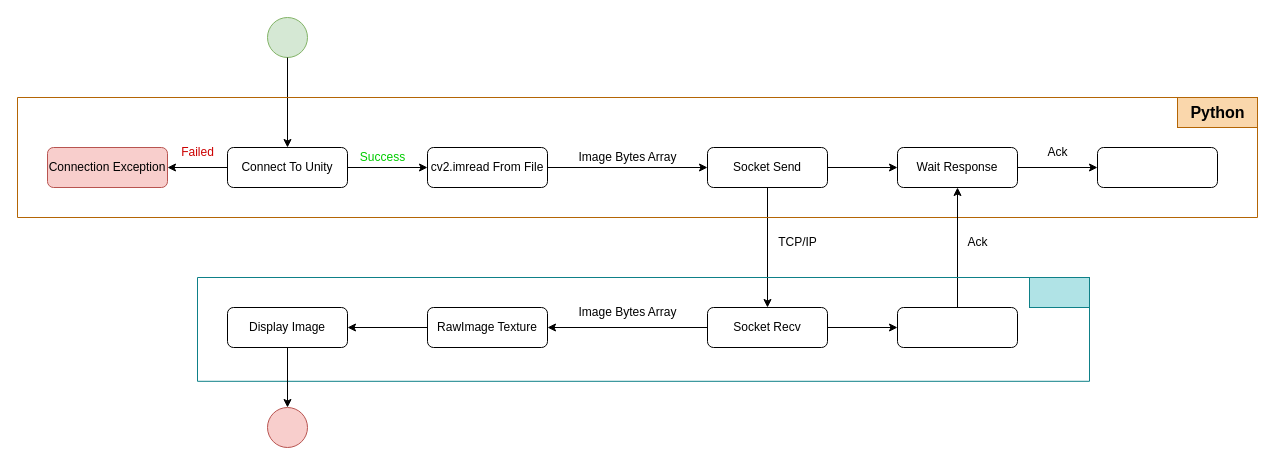
Image size: 1275x465. Some labels were removed from this diagram. The shapes that lost their labels are listed below. From the top down, each one's centre as x and y in pixels, then its label:
At (x=287, y=37): "Start".
At (x=1157, y=167): "Output Console".
At (x=1059, y=292): "Unity".
At (x=957, y=327): "Ack Reponse".
At (x=287, y=427): "End".
